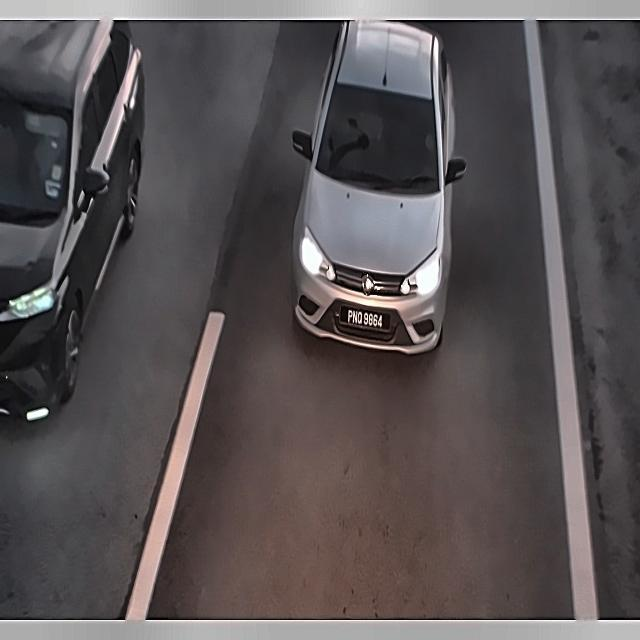car: (336, 298, 396, 338)
